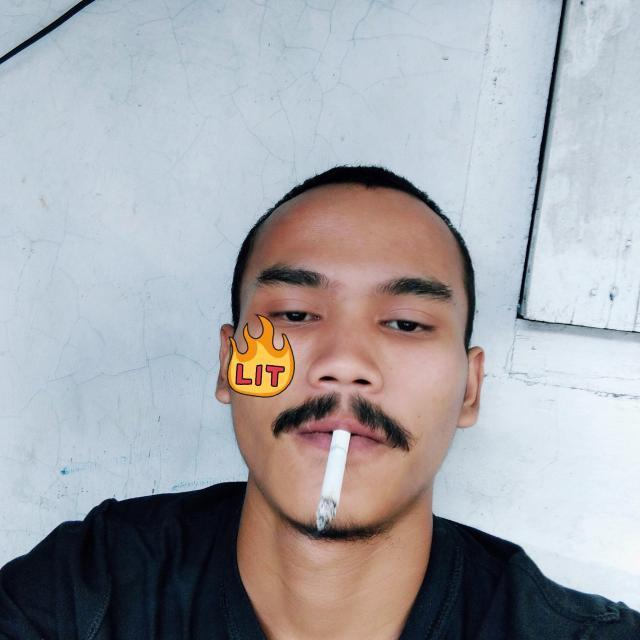rokok: (308, 418, 354, 536)
